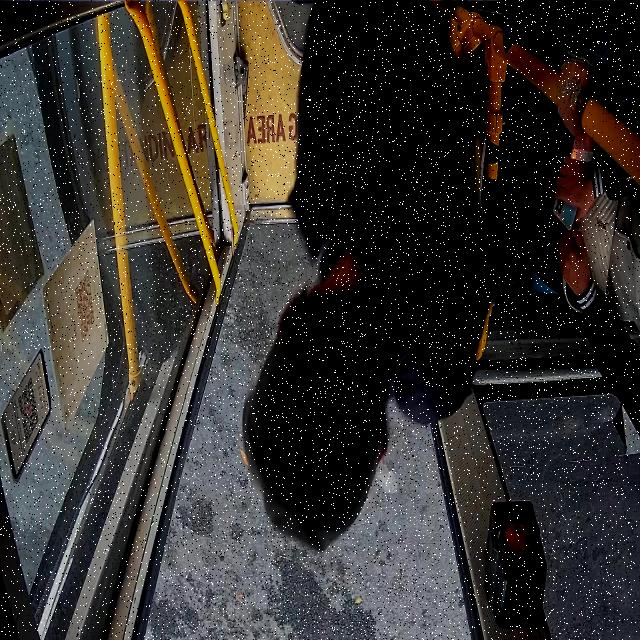open: (108, 205, 447, 640)
